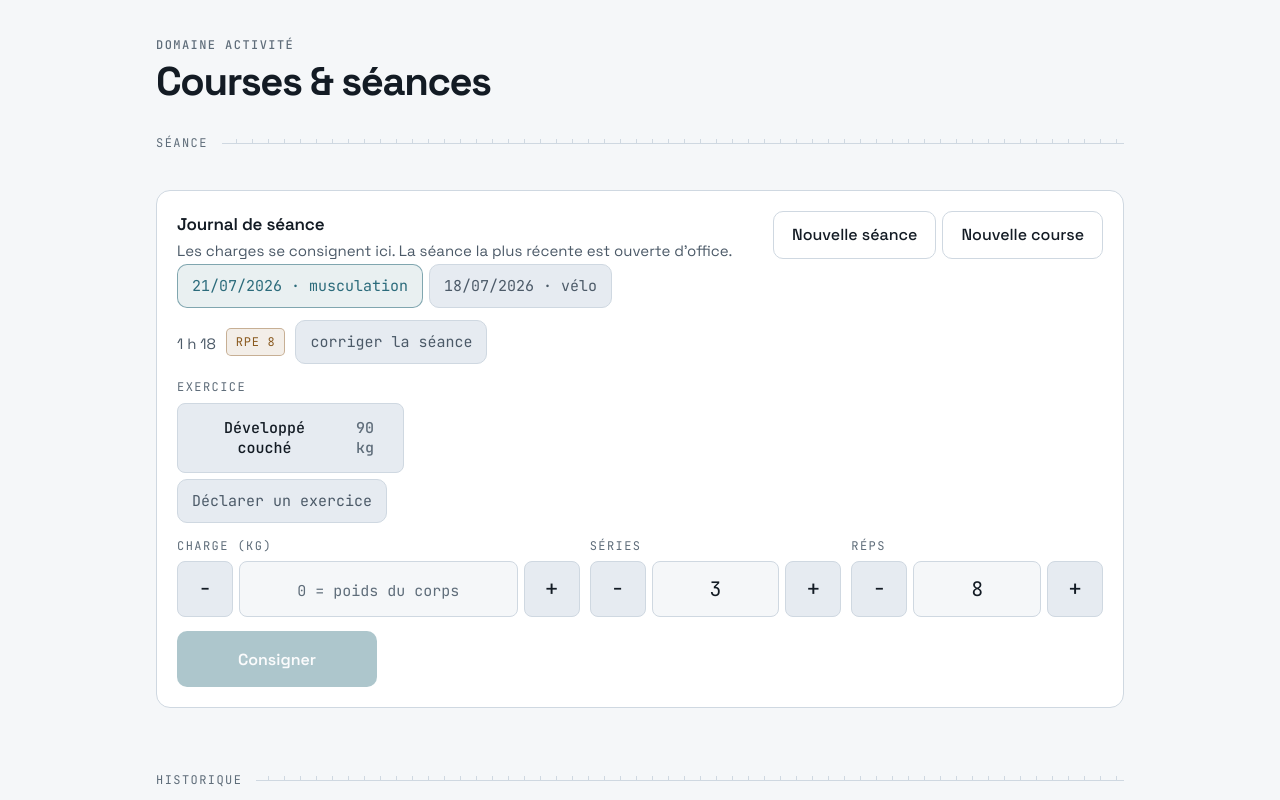
écran Activité › n’emporte pas la charge tapée d’une séance à la suivante
Type "80" into the field labelled "Charge (kg)" at (378, 589), box [239,561,518,617]
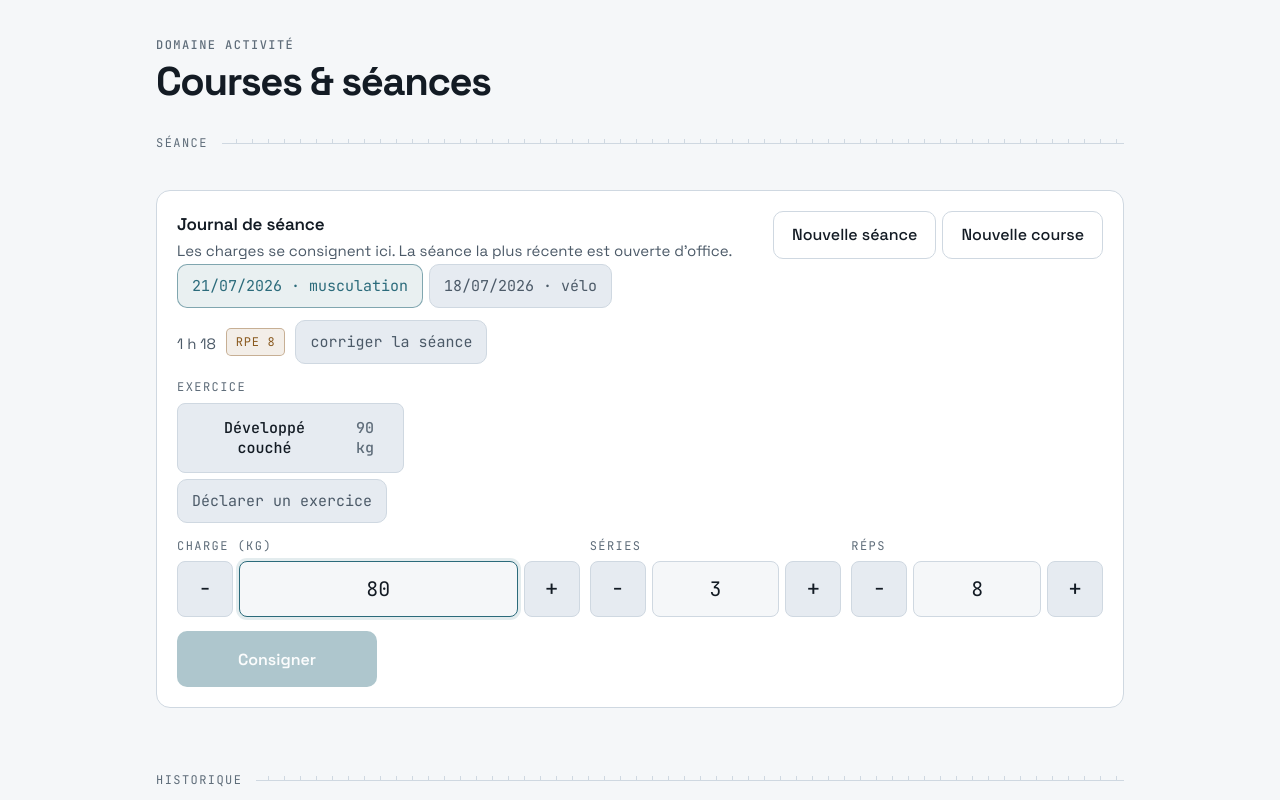
Click the button "18/07/2026 · vélo" at (520, 286), box [429,264,612,308]
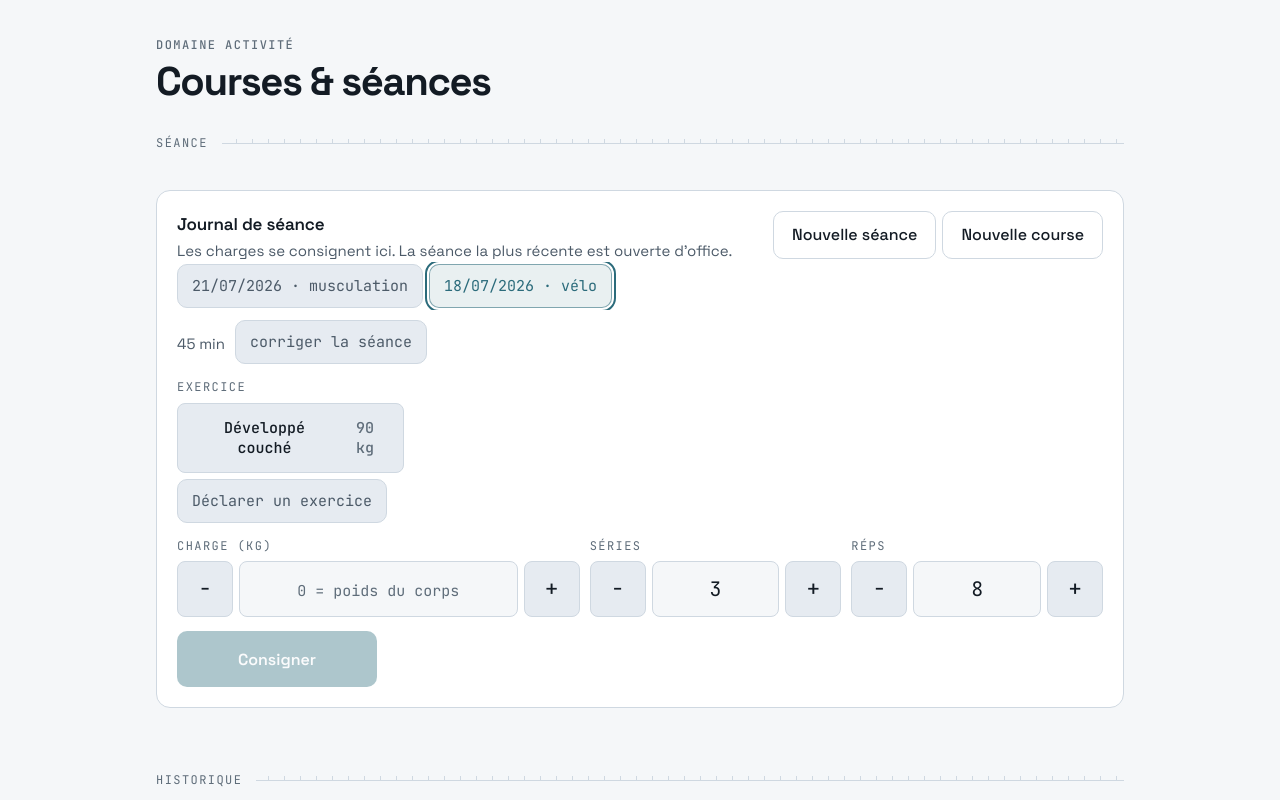
Now the text "45 min" is shown, box [177,332,225,355]
Now the field labelled "Charge (kg)" is empty, box [239,561,518,617]
